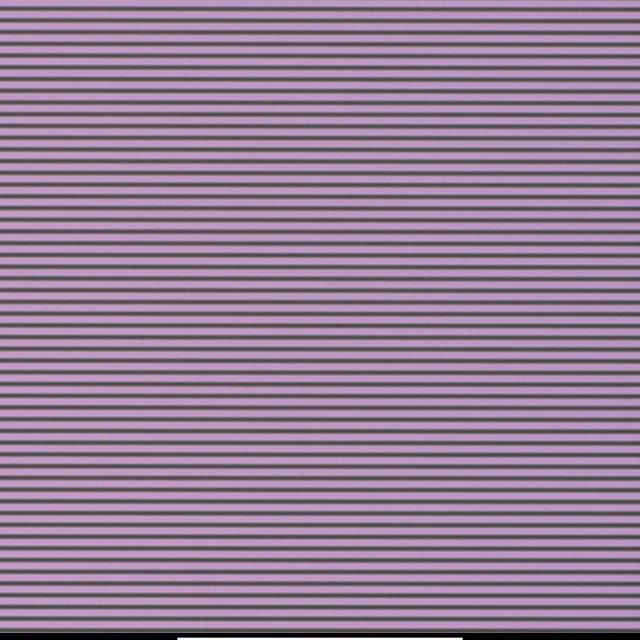nonvisual: (298, 262, 308, 272)
